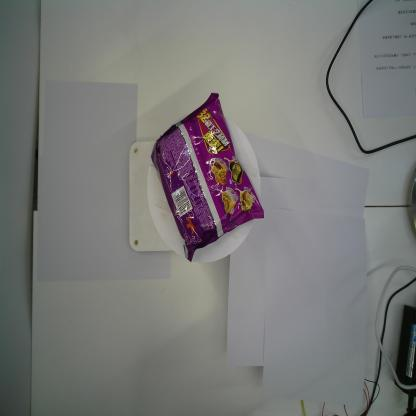Instant Noodles: (150, 92, 265, 263)
